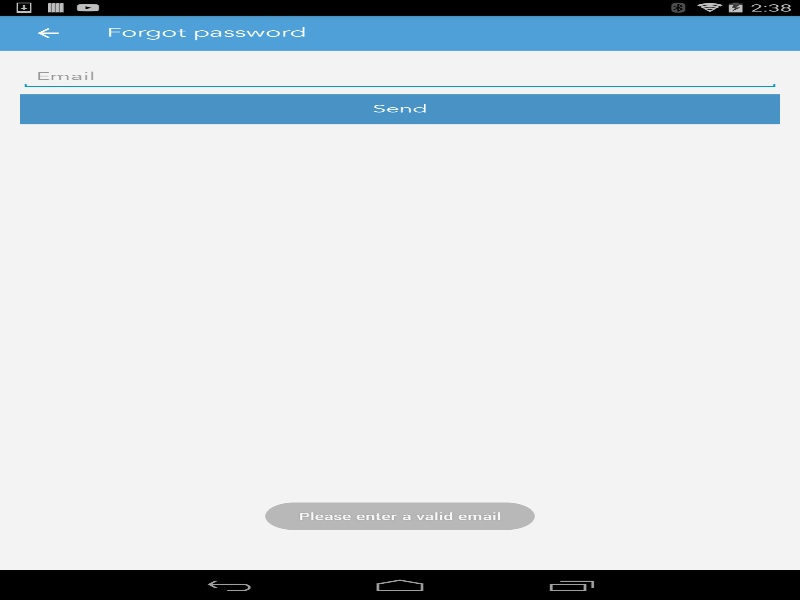Button: (20, 94, 780, 124), (10, 15, 85, 50)
Input: (20, 65, 780, 89)
